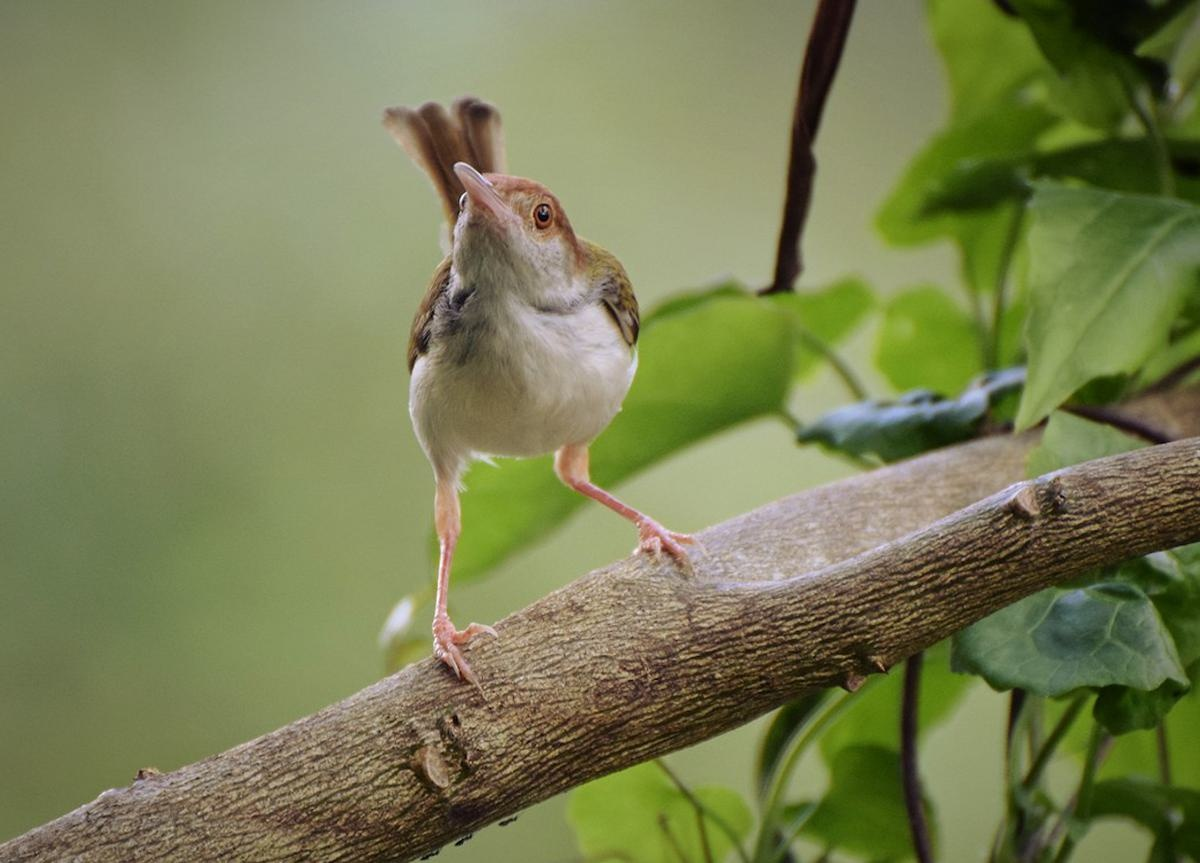tailorbird: (345, 85, 763, 656)
